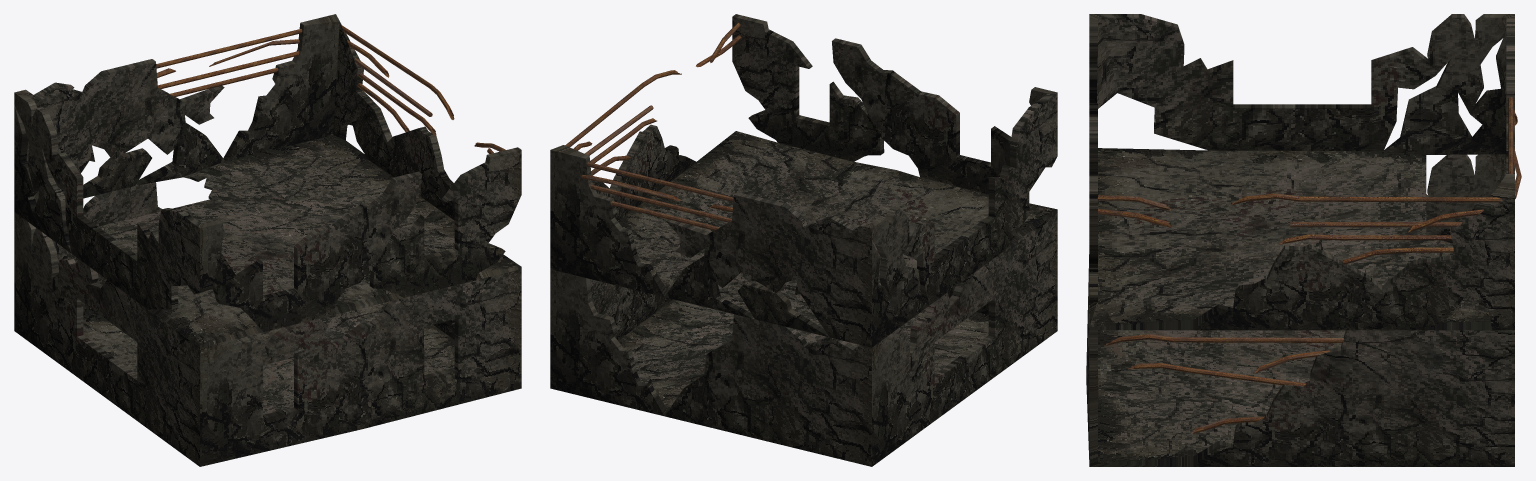
File: ruinas1.glb
The picture shows the model from 3 angles, left to right: view 1: azimuth 30°, elevation 25°; view 2: azimuth 150°, elevation 25°; view 3: azimuth 270°, elevation 25°; orthographic projection. The views are drawn at different scales.
Parts seen in each view (by area): view 1: Cube.014, Cube.013, Cylinder.020; view 2: Cube.014, Cube.013, Cylinder.020; view 3: Cube.014, Cube.013, Cylinder.020, Cylinder.022.
Boxes of the visible parts, box(x1,y1,x2,y2) form: Cube.014: box(14, 14, 521, 347); Cube.013: box(14, 142, 521, 466); Cylinder.020: box(156, 25, 505, 153); Cube.014: box(550, 14, 1057, 347); Cube.013: box(550, 212, 1057, 466); Cylinder.020: box(565, 23, 741, 230); Cube.014: box(1089, 14, 1514, 330); Cube.013: box(1086, 154, 1514, 466); Cylinder.020: box(1098, 97, 1521, 264); Cylinder.022: box(1105, 334, 1343, 434).
Bounding box in the file's own units: 15.55 × 10.79 × 15.56.
3 materials, 3 textured.
